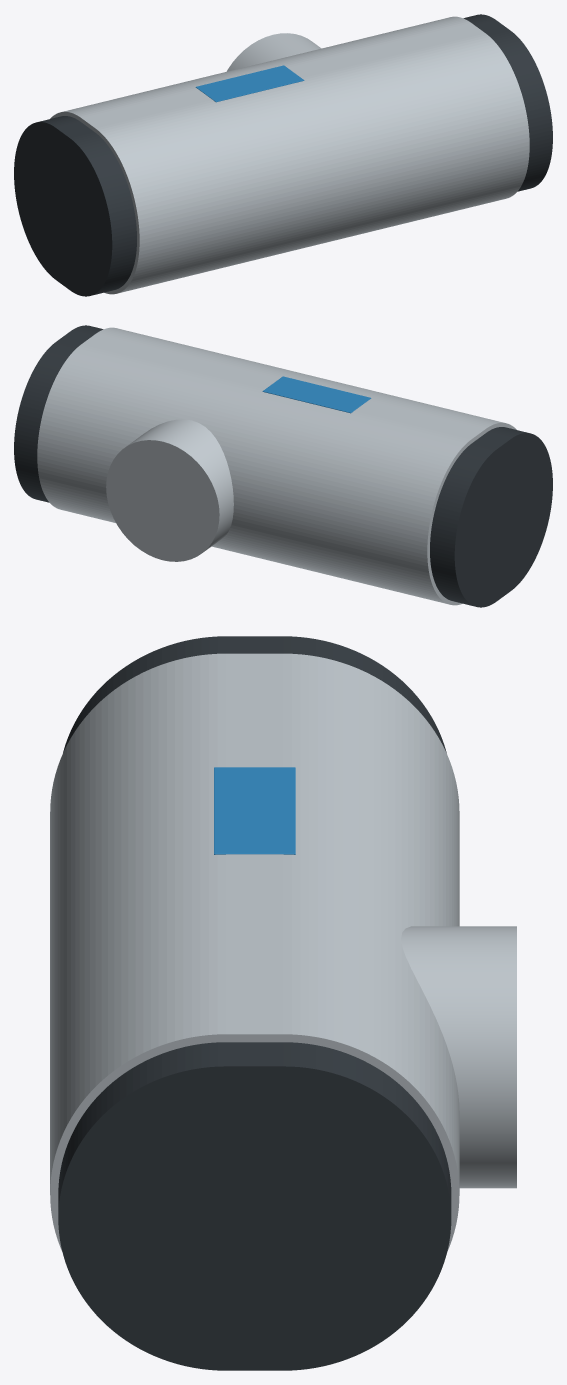
The model's file is body.obj.
3 views of the same model, one above another, from view 1: azimuth 30°, elevation 25°; view 2: azimuth 150°, elevation 25°; view 3: azimuth 270°, elevation 25° (orthographic). The views are drawn at different scales.
Visible parts, largest first — view 1: aluminium_shell, end_cap_-0.1484, end_cap_0.0862, label_0.042, side_coupling; view 2: aluminium_shell, end_cap_-0.1484, side_coupling, end_cap_0.0862, label_0.042, backing_pad; view 3: aluminium_shell, end_cap_0.0862, side_coupling, label_0.042, end_cap_-0.1484, backing_pad.
Part boxes in pixels (left/top/right/bottom): aluminium_shell: left=50, top=16, right=529, bottom=294; end_cap_-0.1484: left=14, top=116, right=136, bottom=296; end_cap_0.0862: left=463, top=14, right=552, bottom=191; label_0.042: left=195, top=65, right=304, bottom=102; side_coupling: left=227, top=33, right=321, bottom=71; aluminium_shell: left=37, top=327, right=516, bottom=605; end_cap_-0.1484: left=430, top=427, right=552, bottom=607; side_coupling: left=106, top=422, right=233, bottom=561; end_cap_0.0862: left=14, top=325, right=103, bottom=502; label_0.042: left=262, top=376, right=371, bottom=413; backing_pad: left=143, top=419, right=230, bottom=534; aluminium_shell: left=50, top=653, right=459, bottom=1251; end_cap_0.0862: left=58, top=1042, right=451, bottom=1370; side_coupling: left=418, top=926, right=516, bottom=1188; label_0.042: left=214, top=767, right=295, bottom=854; end_cap_-0.1484: left=63, top=636, right=446, bottom=752; backing_pad: left=401, top=926, right=451, bottom=1055.
Size of the model in its own units: 0.2486 by 0.0864 by 0.114.
